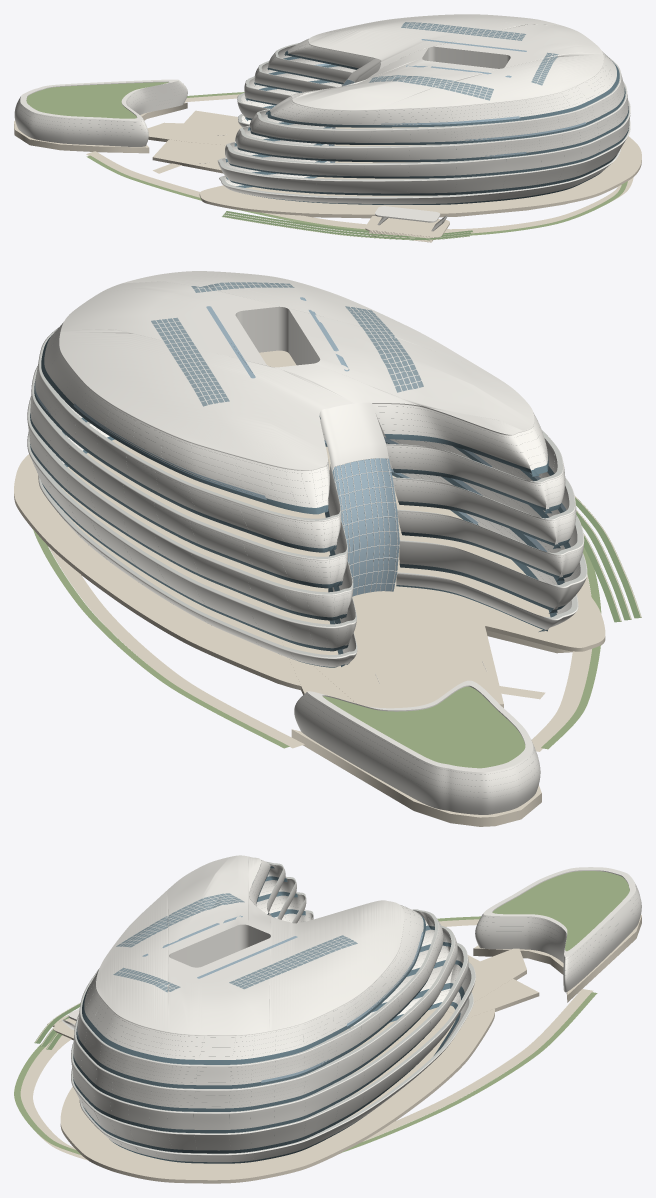
File: sz-sci-tech-museum.glb
3 views of the same model, one above another, from view 1: azimuth 30°, elevation 25°; view 2: azimuth 150°, elevation 25°; view 3: azimuth 270°, elevation 25° (orthographic). The views are drawn at different scales.
Parts seen in each view (by area): view 1: HD museum | shell, HD museum | stone, HD museum | shadow, HD museum | seam, HD museum | green, HD museum | solar, HD museum | hedge, HD museum | glass; view 2: HD museum | shell, HD museum | stone, HD museum | green, HD museum | shadow, HD museum | seam, HD museum | glass, HD museum | solar, HD museum | hedge; view 3: HD museum | shell, HD museum | stone, HD museum | shadow, HD museum | green, HD museum | seam, HD museum | solar, HD museum | glass, HD museum | hedge.
Part boxes in pixels (left/top/right/bottom): HD museum | shell: left=14, top=14, right=630, bottom=231; HD museum | stone: left=14, top=94, right=641, bottom=242; HD museum | shadow: left=225, top=50, right=628, bottom=204; HD museum | seam: left=16, top=39, right=629, bottom=197; HD museum | green: left=26, top=82, right=627, bottom=235; HD museum | solar: left=369, top=22, right=558, bottom=100; HD museum | hedge: left=222, top=211, right=472, bottom=240; HD museum | glass: left=274, top=39, right=585, bottom=162; HD museum | shell: left=27, top=271, right=587, bottom=814; HD museum | stone: left=14, top=350, right=641, bottom=826; HD museum | green: left=33, top=529, right=601, bottom=768; HD museum | shadow: left=30, top=335, right=573, bottom=667; HD museum | seam: left=28, top=323, right=586, bottom=798; HD museum | glass: left=34, top=297, right=566, bottom=596; HD museum | solar: left=151, top=282, right=423, bottom=406; HD museum | hedge: left=575, top=497, right=641, bottom=622; HD museum | shell: left=61, top=855, right=641, bottom=1162; HD museum | stone: left=20, top=914, right=641, bottom=1183; HD museum | shadow: left=73, top=866, right=464, bottom=1163; HD museum | green: left=14, top=871, right=629, bottom=1154; HD museum | seam: left=71, top=860, right=633, bottom=1158; HD museum | solar: left=113, top=893, right=357, bottom=992; HD museum | glass: left=76, top=915, right=423, bottom=1082; HD museum | hedge: left=34, top=1003, right=80, bottom=1049.
Bounding box in the file's own units: 244 × 59 × 228.
